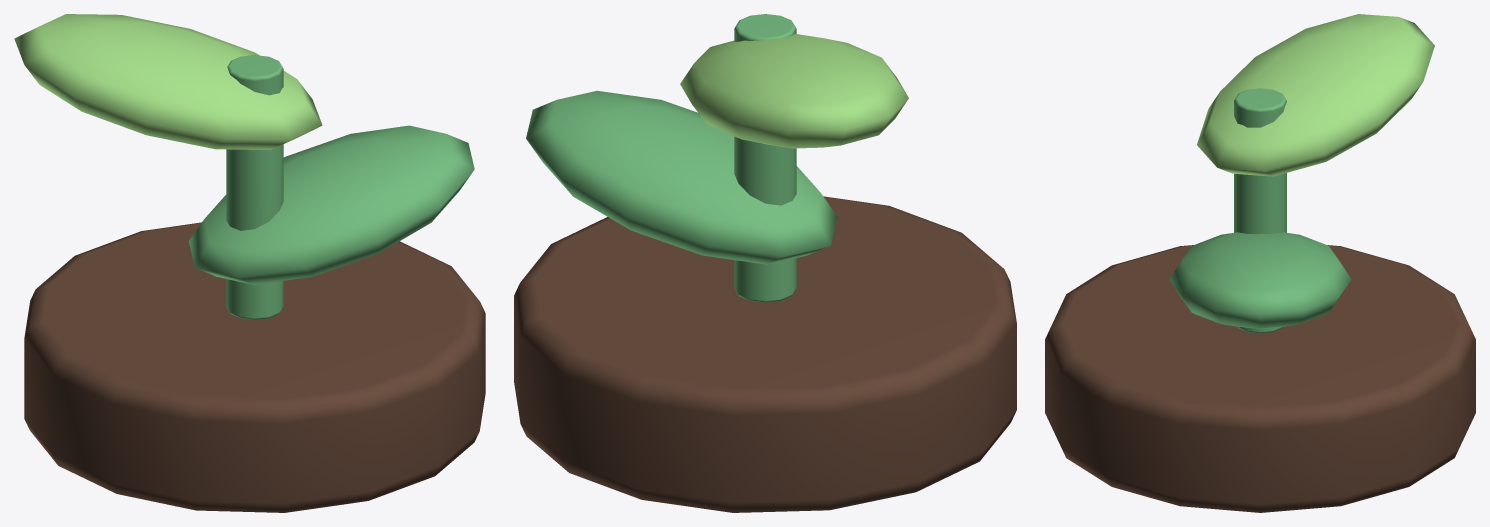
Rendered from Plant_Sprout.glb.
3 renders of one model, left to right at view 1: azimuth 30°, elevation 25°; view 2: azimuth 150°, elevation 25°; view 3: azimuth 270°, elevation 25°, orthographic. The views are drawn at different scales.
Visible parts, largest first — view 1: Soil plug, Growth 0 leaf.012, Growth 0 leaf.013, Plant stem.018; view 2: Soil plug, Growth 0 leaf.012, Growth 0 leaf.013, Plant stem.018; view 3: Soil plug, Growth 0 leaf.013, Growth 0 leaf.012, Plant stem.018.
Part boxes in pixels (box(x1,y1,x2,y2)): Soil plug: box(24, 222, 485, 512); Growth 0 leaf.012: box(188, 125, 474, 284); Growth 0 leaf.013: box(14, 14, 322, 150); Plant stem.018: box(226, 55, 283, 319); Soil plug: box(514, 196, 1016, 512); Growth 0 leaf.012: box(526, 90, 837, 264); Growth 0 leaf.013: box(680, 33, 908, 148); Plant stem.018: box(734, 14, 796, 302); Soil plug: box(1045, 245, 1475, 512); Growth 0 leaf.013: box(1197, 14, 1434, 176); Growth 0 leaf.012: box(1169, 232, 1351, 328); Plant stem.018: box(1234, 88, 1286, 333).
Bounding box in the file's own units: 0.2677 × 0.2335 × 0.26.
